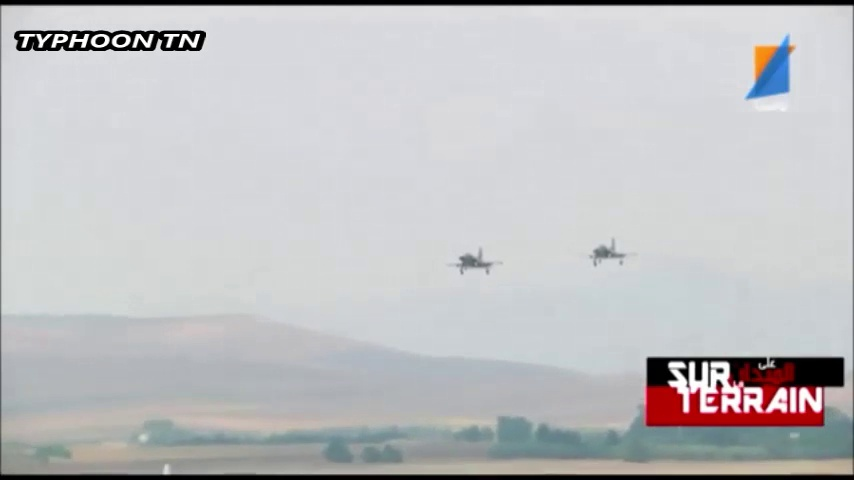Airplane: (447, 249, 504, 278), (587, 237, 632, 265)
